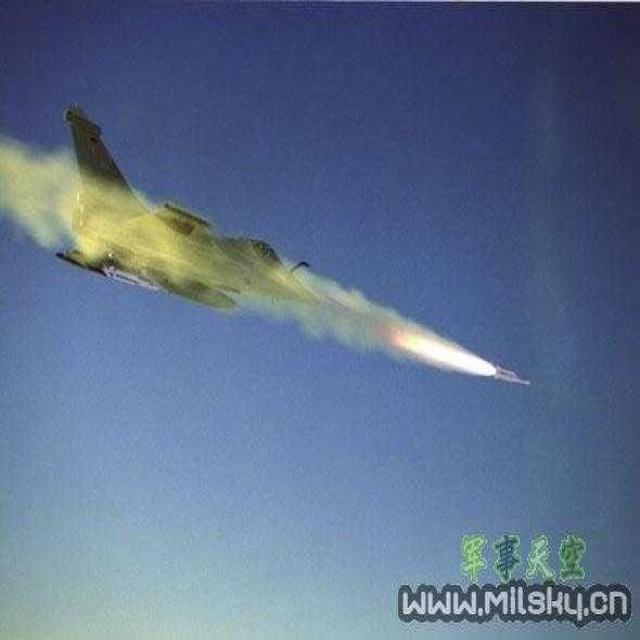missile: (491, 360, 529, 391)
